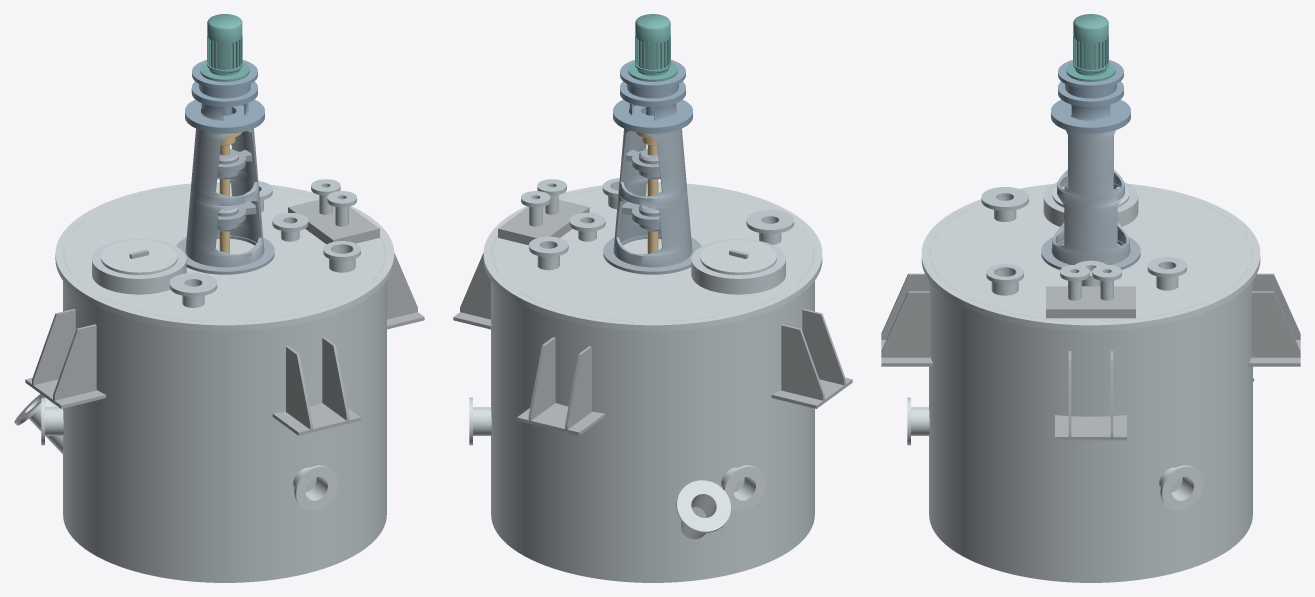
The picture shows the model from 3 angles, left to right: view 1: azimuth 30°, elevation 25°; view 2: azimuth 150°, elevation 25°; view 3: azimuth 270°, elevation 25°; orthographic projection.
Parts seen in each view (by area): view 1: 本体_筒壳, 槽盖_盖板, 支架_06_Tapered_window_frame_with_bored_seats, 接口_人孔座圈, 托耳_翼式筋板3_+1, 驱动_01_Motor, 接口_人孔盖, 接口_双接管安装座, 托耳_翼式筋板3_-1, 托耳_翼式筋板4_+1, 驱动_02_Base_flange_top, 托耳_翼式筋板4_-1 (+12 smaller); view 2: 本体_筒壳, 槽盖_盖板, 支架_06_Tapered_window_frame_with_bored_seats, 接口_人孔座圈, 托耳_翼式筋板3_-1, 驱动_01_Motor, 接口_人孔盖, 接口_双接管安装座, 接口_西北斜向法兰, 托耳_翼式筋板3_+1, 托耳_翼式筋板2_-1, 驱动_02_Base_flange_top (+14 smaller); view 3: 本体_筒壳, 槽盖_盖板, 支架_06_Tapered_window_frame_with_bored_seats, 接口_双接管安装座, 托耳_翼式筋板2_-1, 托耳_翼式筋板4_+1, 驱动_01_Motor, 托耳_翼式底板1, 驱动_02_Base_flange_top, 接口_东北法兰, 接口_人孔座圈, 接口_顶盖法兰01 (+11 smaller).
Part boxes in pixels (x1,y1,x2,y2): 本体_筒壳: (63, 185, 386, 582); 槽盖_盖板: (55, 182, 394, 331); 支架_06_Tapered_window_frame_with_bored_seats: (185, 113, 264, 267); 接口_人孔座圈: (92, 239, 186, 294); 托耳_翼式筋板3_+1: (53, 324, 96, 400); 驱动_01_Motor: (200, 14, 249, 81); 接口_人孔盖: (101, 240, 177, 274); 接口_双接管安装座: (288, 199, 379, 244); 托耳_翼式筋板3_-1: (32, 309, 75, 385); 托耳_翼式筋板4_+1: (322, 337, 349, 420); 驱动_02_Base_flange_top: (185, 99, 264, 130); 托耳_翼式筋板4_-1: (286, 346, 312, 429); 本体_筒壳: (491, 185, 814, 582); 槽盖_盖板: (483, 182, 822, 331); 支架_06_Tapered_window_frame_with_bored_seats: (613, 113, 692, 267); 接口_人孔座圈: (691, 239, 785, 294); 托耳_翼式筋板3_-1: (781, 324, 824, 400); 驱动_01_Motor: (628, 14, 677, 81); 接口_人孔盖: (700, 240, 776, 274); 接口_双接管安装座: (498, 199, 589, 245); 接口_西北斜向法兰: (676, 480, 730, 532); 托耳_翼式筋板3_+1: (802, 309, 845, 385); 托耳_翼式筋板2_-1: (528, 337, 555, 420); 驱动_02_Base_flange_top: (613, 99, 692, 130); 本体_筒壳: (929, 187, 1252, 582); 槽盖_盖板: (921, 184, 1260, 331); 支架_06_Tapered_window_frame_with_bored_seats: (1051, 130, 1130, 264); 接口_双接管安装座: (1046, 286, 1135, 318); 托耳_翼式筋板2_-1: (1252, 291, 1300, 357); 托耳_翼式筋板4_+1: (881, 291, 929, 357); 驱动_01_Motor: (1066, 14, 1115, 81); 托耳_翼式底板1: (1055, 415, 1126, 440); 驱动_02_Base_flange_top: (1051, 99, 1130, 130); 接口_东北法兰: (1160, 465, 1203, 510); 接口_人孔座圈: (1043, 182, 1138, 226); 接口_顶盖法兰01: (981, 187, 1028, 210).
Bounding box in the file's own units: 2.33 × 3.38 × 2.33.
